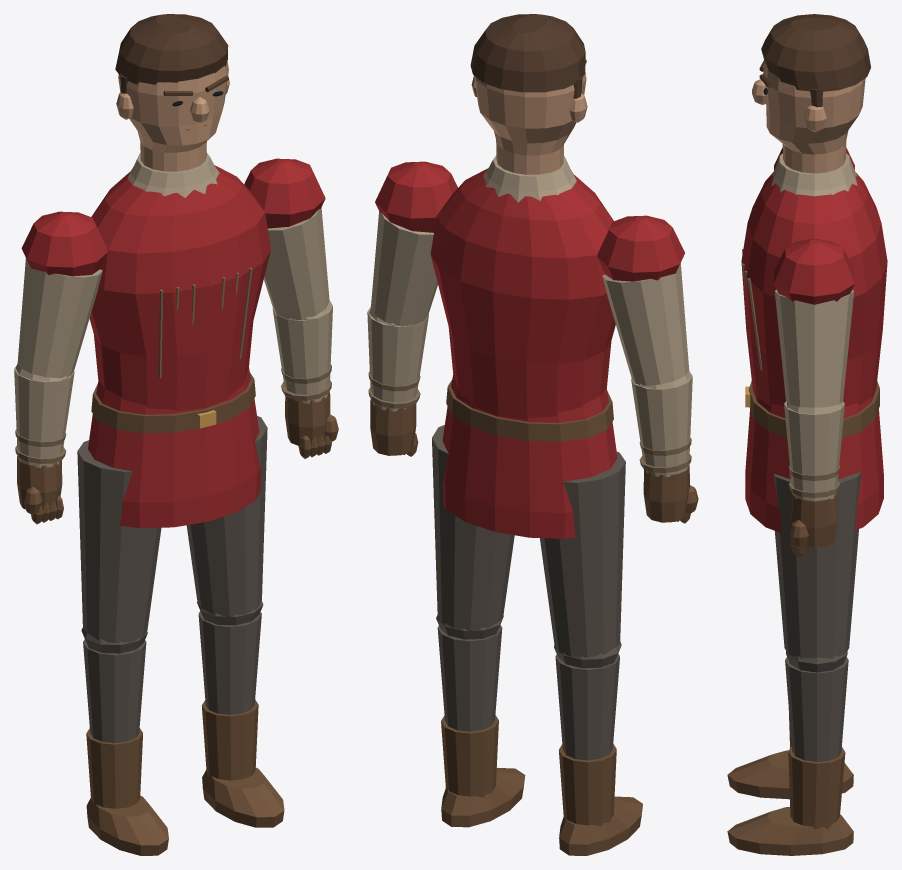
File: kit.glb
3 views of the same model, side by side, from view 1: azimuth 30°, elevation 25°; view 2: azimuth 150°, elevation 25°; view 3: azimuth 270°, elevation 25° (orthographic). The views are drawn at different scales.
Parts seen in each view (by area): view 1: PaddedChest_mesh, PaddedHips_mesh, PaddedHead_mesh, PaddedShinR_mesh, PaddedShinL_mesh, PaddedThighR_mesh, PaddedUpperArmR_mesh, PaddedUpperArmL_mesh, PaddedThighL_mesh, PaddedForearmR_mesh, PaddedForearmL_mesh, PaddedHandL_mesh (+1 smaller); view 2: PaddedChest_mesh, PaddedHips_mesh, PaddedHead_mesh, PaddedShinR_mesh, PaddedShinL_mesh, PaddedThighR_mesh, PaddedUpperArmR_mesh, PaddedUpperArmL_mesh, PaddedThighL_mesh, PaddedForearmR_mesh, PaddedForearmL_mesh, PaddedHandR_mesh (+1 smaller); view 3: PaddedChest_mesh, PaddedHead_mesh, PaddedShinL_mesh, PaddedUpperArmL_mesh, PaddedThighL_mesh, PaddedHips_mesh, PaddedForearmL_mesh, PaddedShinR_mesh, PaddedHandL_mesh.
Part boxes in pixels (x1,y1,x2,y2): PaddedChest_mesh: (89, 152, 270, 411); PaddedHips_mesh: (88, 368, 260, 528); PaddedHead_mesh: (115, 14, 229, 171); PaddedShinR_mesh: (81, 627, 168, 855); PaddedShinL_mesh: (197, 600, 284, 827); PaddedThighR_mesh: (77, 440, 161, 642); PaddedUpperArmR_mesh: (17, 211, 107, 378); PaddedUpperArmL_mesh: (244, 158, 329, 319); PaddedThighL_mesh: (186, 416, 267, 616); PaddedForearmR_mesh: (14, 363, 74, 467); PaddedForearmL_mesh: (272, 301, 332, 403); PaddedHandL_mesh: (285, 391, 338, 458); PaddedChest_mesh: (430, 155, 615, 419); PaddedHips_mesh: (442, 375, 617, 538); PaddedHead_mesh: (470, 14, 587, 174); PaddedShinR_mesh: (554, 642, 642, 855); PaddedShinL_mesh: (436, 613, 525, 827); PaddedThighR_mesh: (540, 451, 625, 657); PaddedUpperArmR_mesh: (597, 215, 689, 385); PaddedUpperArmL_mesh: (371, 161, 457, 326); PaddedThighL_mesh: (432, 425, 514, 630); PaddedForearmR_mesh: (631, 371, 692, 477); PaddedForearmL_mesh: (367, 306, 428, 411); PaddedHandR_mesh: (643, 465, 698, 523); PaddedChest_mesh: (741, 153, 887, 406); PaddedHead_mesh: (752, 14, 870, 173); PaddedShinL_mesh: (727, 651, 853, 855); PaddedUpperArmL_mesh: (774, 238, 854, 407); PaddedThighL_mesh: (773, 471, 861, 658); PaddedHips_mesh: (745, 381, 883, 532); PaddedForearmL_mesh: (784, 401, 844, 501); PaddedShinR_mesh: (727, 708, 853, 799); PaddedHandL_mesh: (789, 494, 837, 556).
Bounding box in the file's own units: 0.774 × 1.86 × 0.342.
